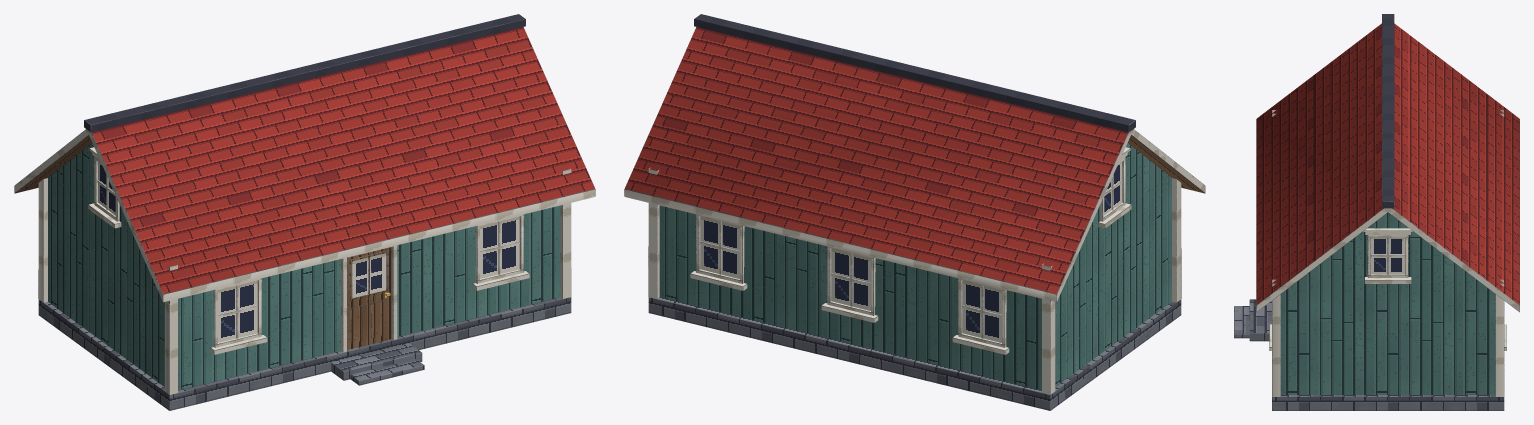
Rendered from town_house_7.glb.
The picture shows the model from 3 angles, left to right: view 1: azimuth 30°, elevation 25°; view 2: azimuth 150°, elevation 25°; view 3: azimuth 270°, elevation 25°; orthographic projection. The views are drawn at different scales.
Visible parts, largest first — view 1: town_house_8; view 2: town_house_8; view 3: town_house_8.
Part boxes in pixels (x1,y1,x2,y2): town_house_8: [14, 14, 595, 410]; town_house_8: [624, 14, 1205, 410]; town_house_8: [1234, 14, 1519, 410].
Size of the model in its own units: 9.96 by 5.35 by 6.4.
Materials: 9 (9 with a texture image).
